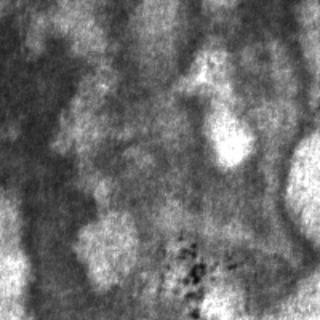inclusion: (173, 237, 233, 299)
patches: (96, 0, 318, 304), (0, 0, 92, 318)
